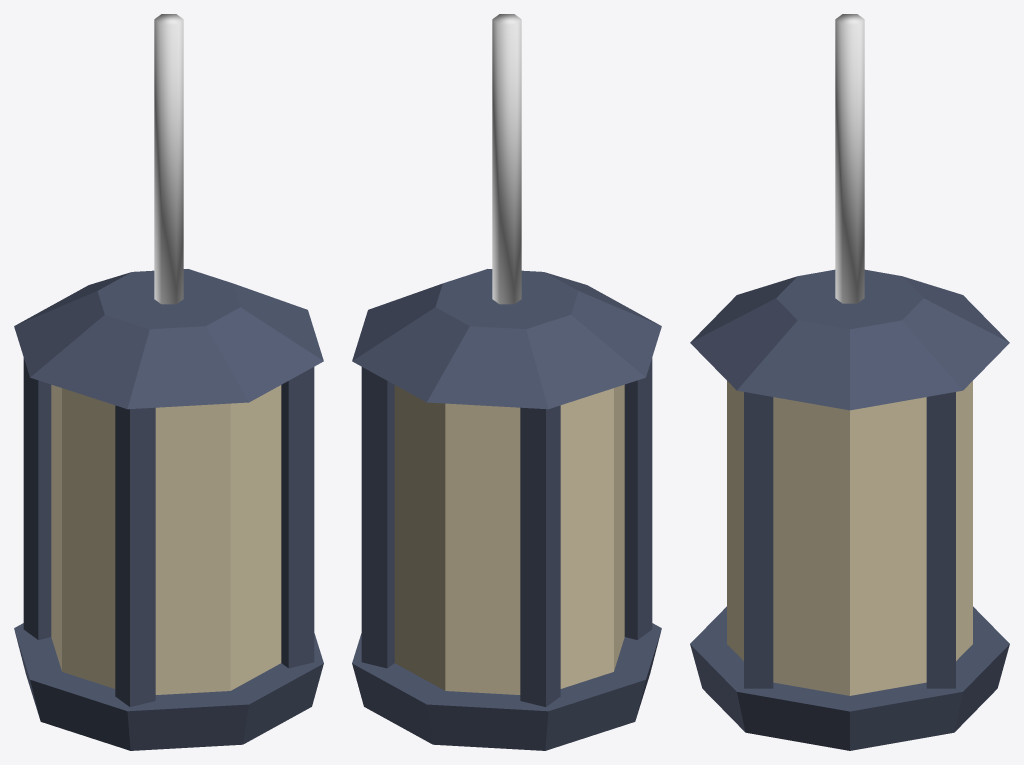
File: granite_lantern_v0.glb
3 renders of one model, left to right at view 1: azimuth 30°, elevation 25°; view 2: azimuth 150°, elevation 25°; view 3: azimuth 270°, elevation 25°, orthographic.
Visible parts, largest first — view 1: granite_lantern_v0; view 2: granite_lantern_v0; view 3: granite_lantern_v0.
Part boxes in pixels (<box>): granite_lantern_v0: <box>14,14,323,750</box>; granite_lantern_v0: <box>352,14,661,750</box>; granite_lantern_v0: <box>690,14,1009,750</box>.
Size of the model in its own units: 0.26 by 0.6 by 0.26.
